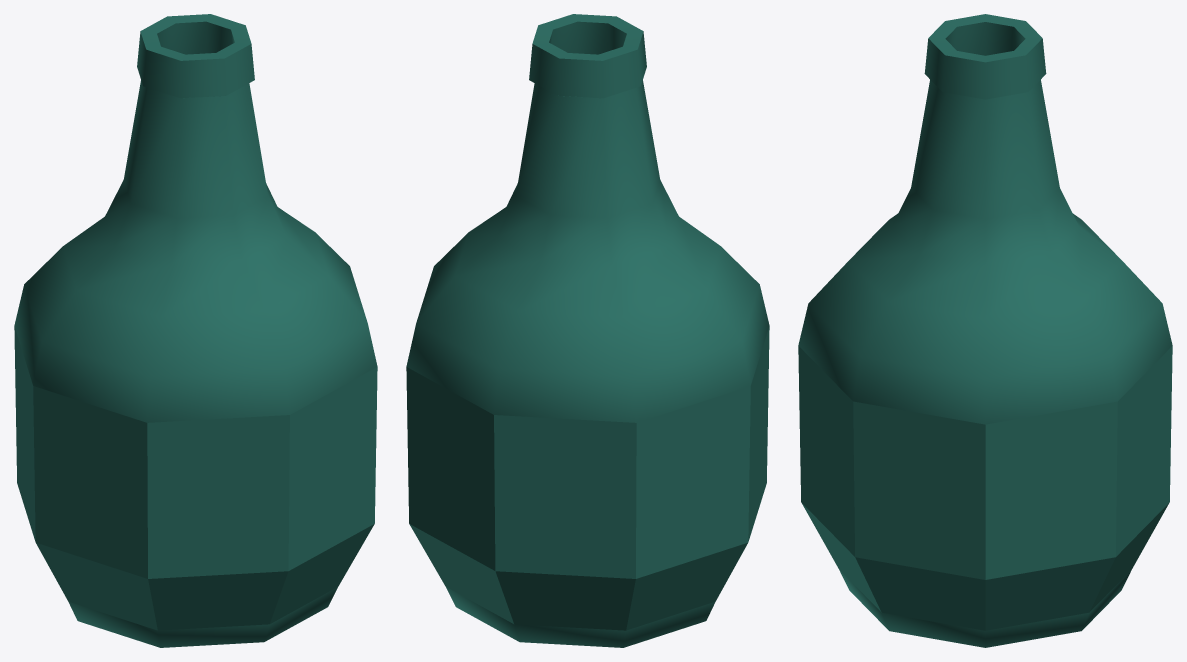
The model's file is SM_glassware_06.fbx.
The picture shows the model from 3 angles, left to right: view 1: azimuth 30°, elevation 25°; view 2: azimuth 150°, elevation 25°; view 3: azimuth 270°, elevation 25°; orthographic projection.
Visible parts, largest first — view 1: glassware_06; view 2: glassware_06; view 3: glassware_06.
Boxes of the visible parts, x1,y1,x2,y2 form: glassware_06: [14, 14, 377, 647]; glassware_06: [406, 14, 769, 647]; glassware_06: [798, 14, 1172, 647].
Size of the model in its own units: 20.95 by 34.66 by 20.95.
